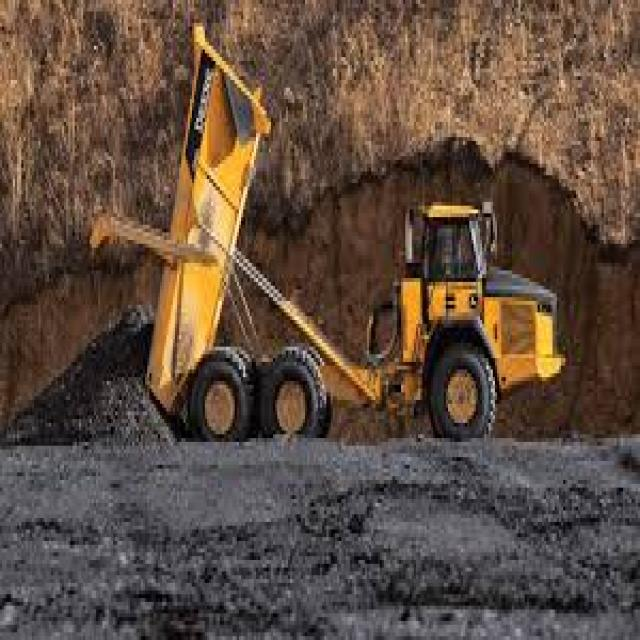dump_truck: (89, 25, 566, 440)
